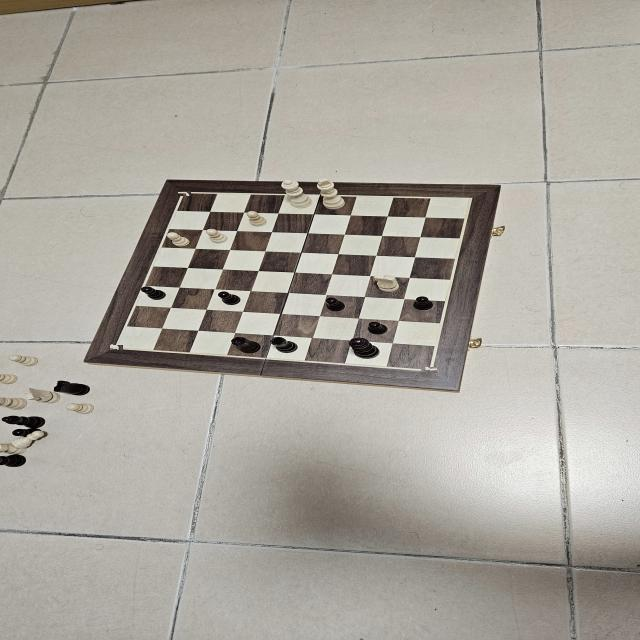chess-table-corners: (421, 368, 437, 373), (178, 190, 191, 196), (110, 344, 123, 350), (462, 196, 478, 200)
